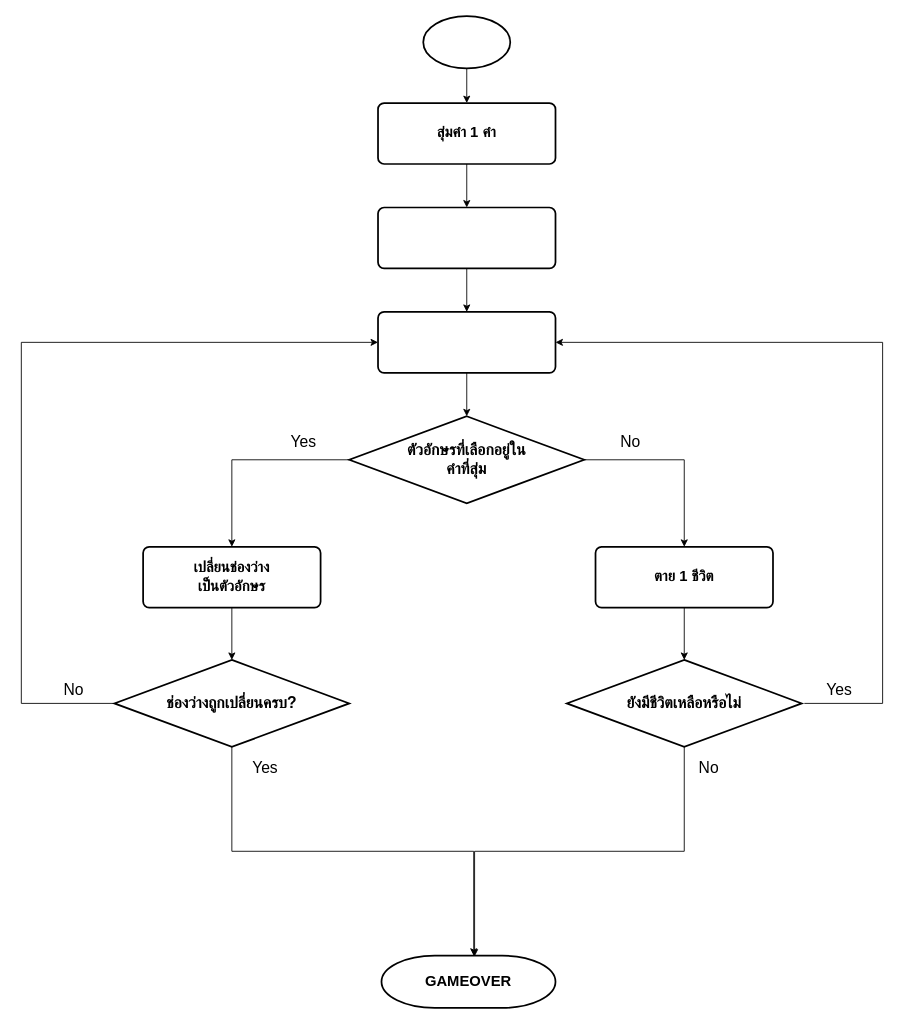
Some shapes in this 905 by 1023 pixel diagram are drawn without their labels. The centre of each missing label's shape, as x and y in pixels:
"Start" belongs at pixel 466 42.
"สร้างช่องว่าง จำนวนเท่ากับคำ" belongs at pixel 466 237.
"ให้ User เลือกตัวอักษร" belongs at pixel 466 342.
